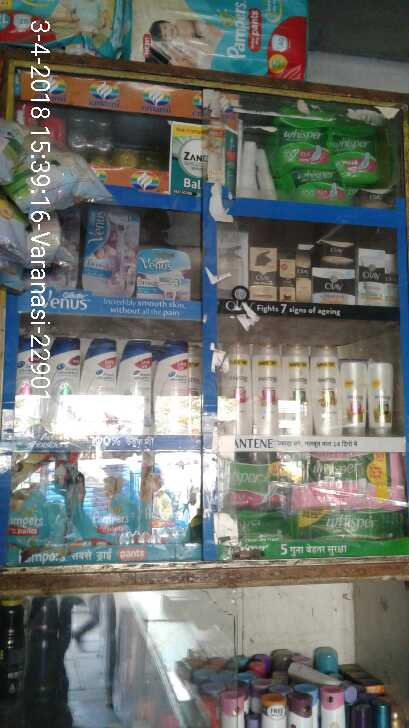venus: (81, 208, 139, 297), (139, 249, 191, 298)
